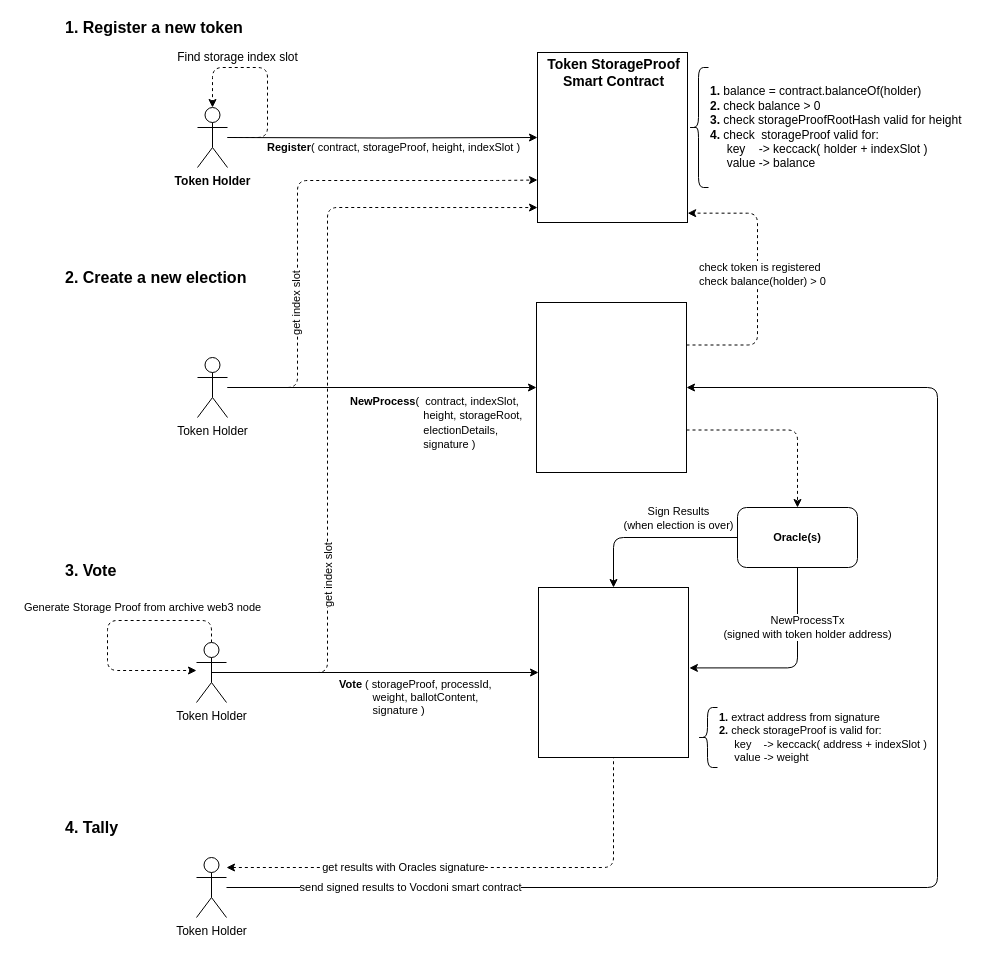
This 995x955 diagram has some shape labels left out. The shapes that lost their labels are listed below. From the top down, each one's box as (x1, y1, x2, y2) in pixels, then its label:
(536, 52, 688, 222): map(contractAddr) -> indexSlot
(536, 302, 686, 472): Vocdoni Voting Smart Contract
(538, 586, 688, 758): Vochain
